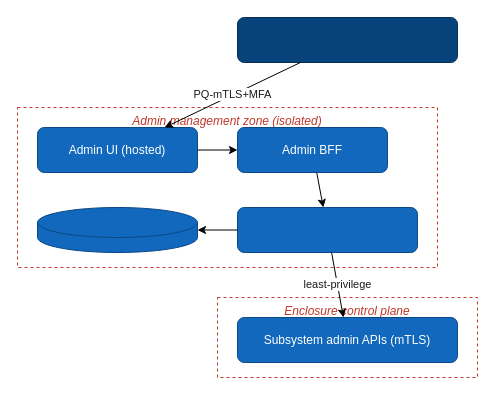
This 495x395 diagram has some shape labels left out. Here are the shapes that lost their labels. From the top down, the centre of each, then its label:
At (x=347, y=39): "Admins / officers / auditors".
At (x=117, y=229): "Admin audit ledger".
At (x=327, y=229): "Admin services".
